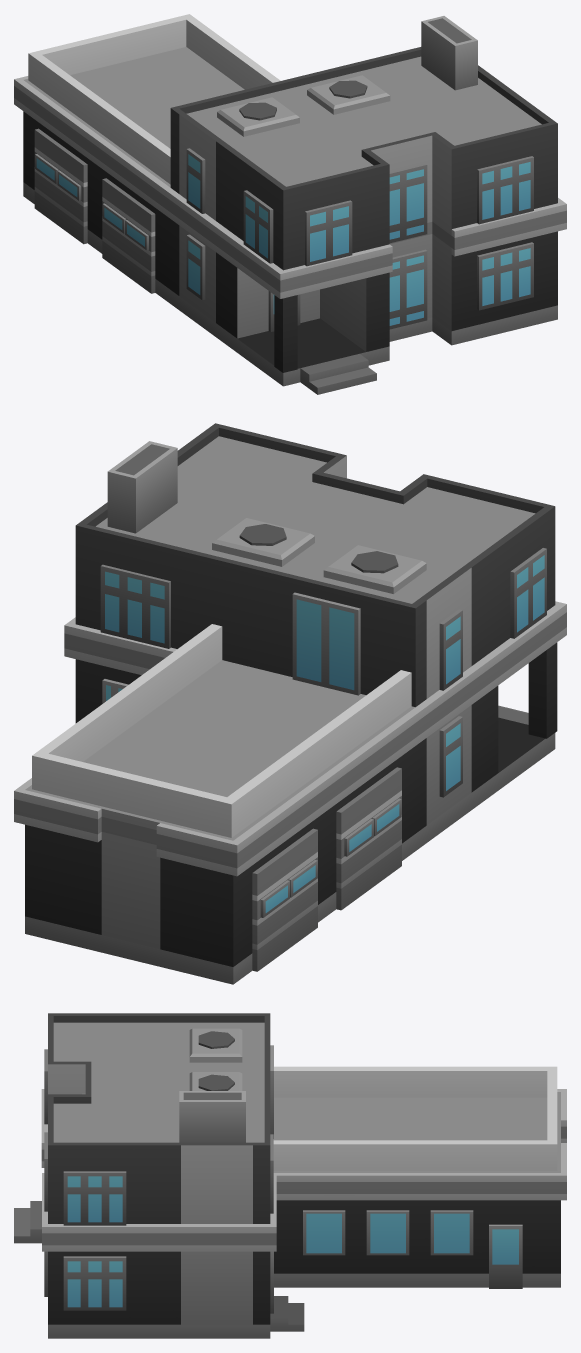
Rendered from modern cottage with pool 2 new.fbx.
3 renders of one model, top to bottom at view 1: azimuth 30°, elevation 25°; view 2: azimuth 150°, elevation 25°; view 3: azimuth 270°, elevation 25°, orthographic. The views are drawn at different scales.
Visible parts, largest first — view 1: modern_cottage_with_pool_2; view 2: modern_cottage_with_pool_2; view 3: modern_cottage_with_pool_2.
Part boxes in pixels (x1,y1,x2,y2): modern_cottage_with_pool_2: (14,14,566,394); modern_cottage_with_pool_2: (14,423,566,984); modern_cottage_with_pool_2: (14,1013,566,1338).
Bounding box in the file's own units: 979 × 762 × 1657.
Materials: 1 (1 with a texture image).
